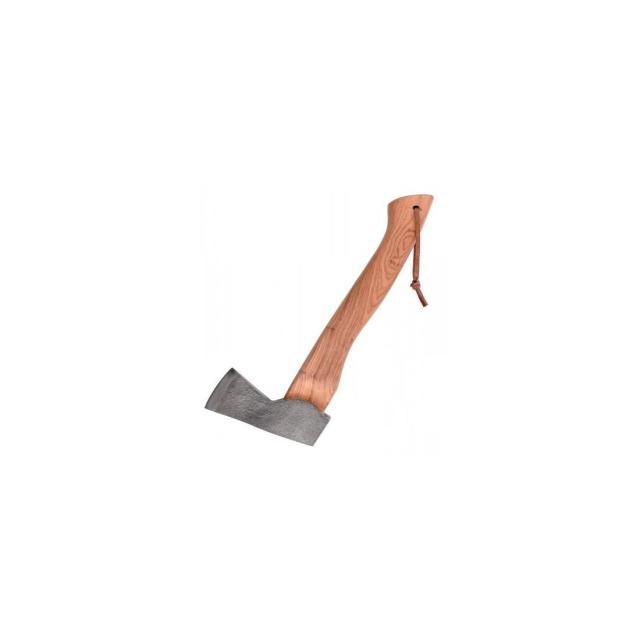Kapak: (192, 185, 452, 459)
